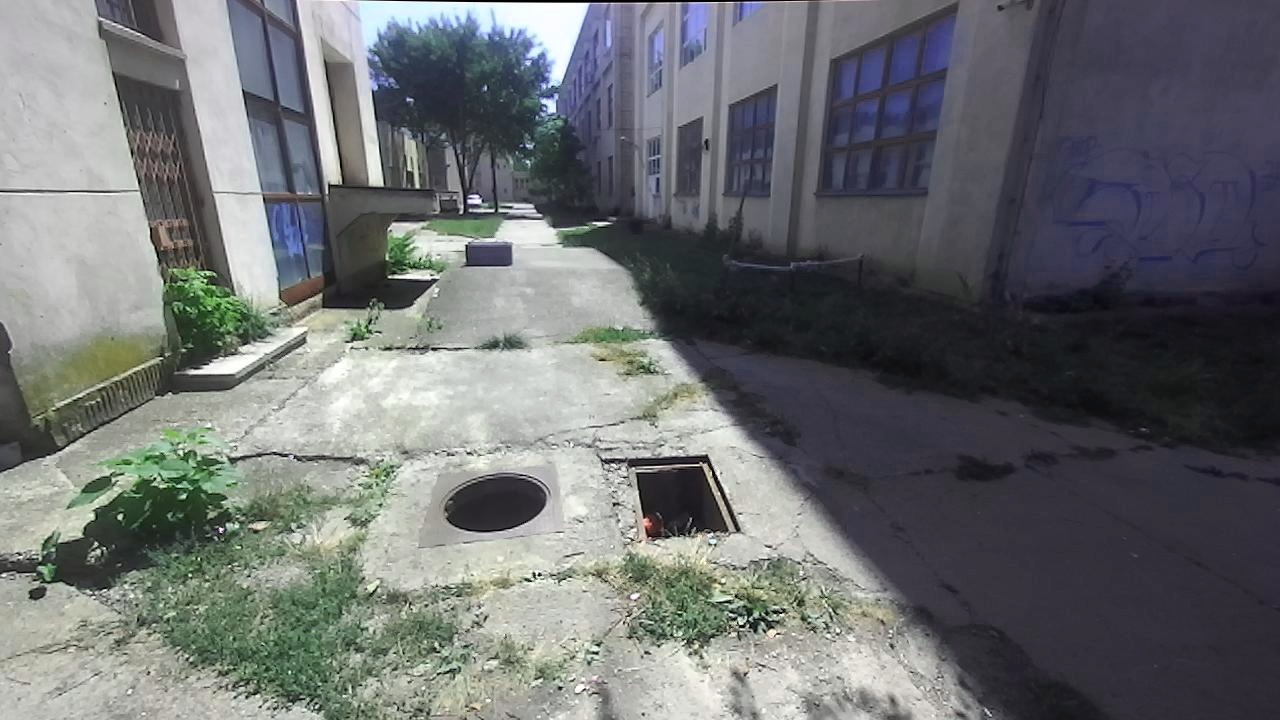drain: (620, 450, 748, 549), (437, 469, 557, 529)
